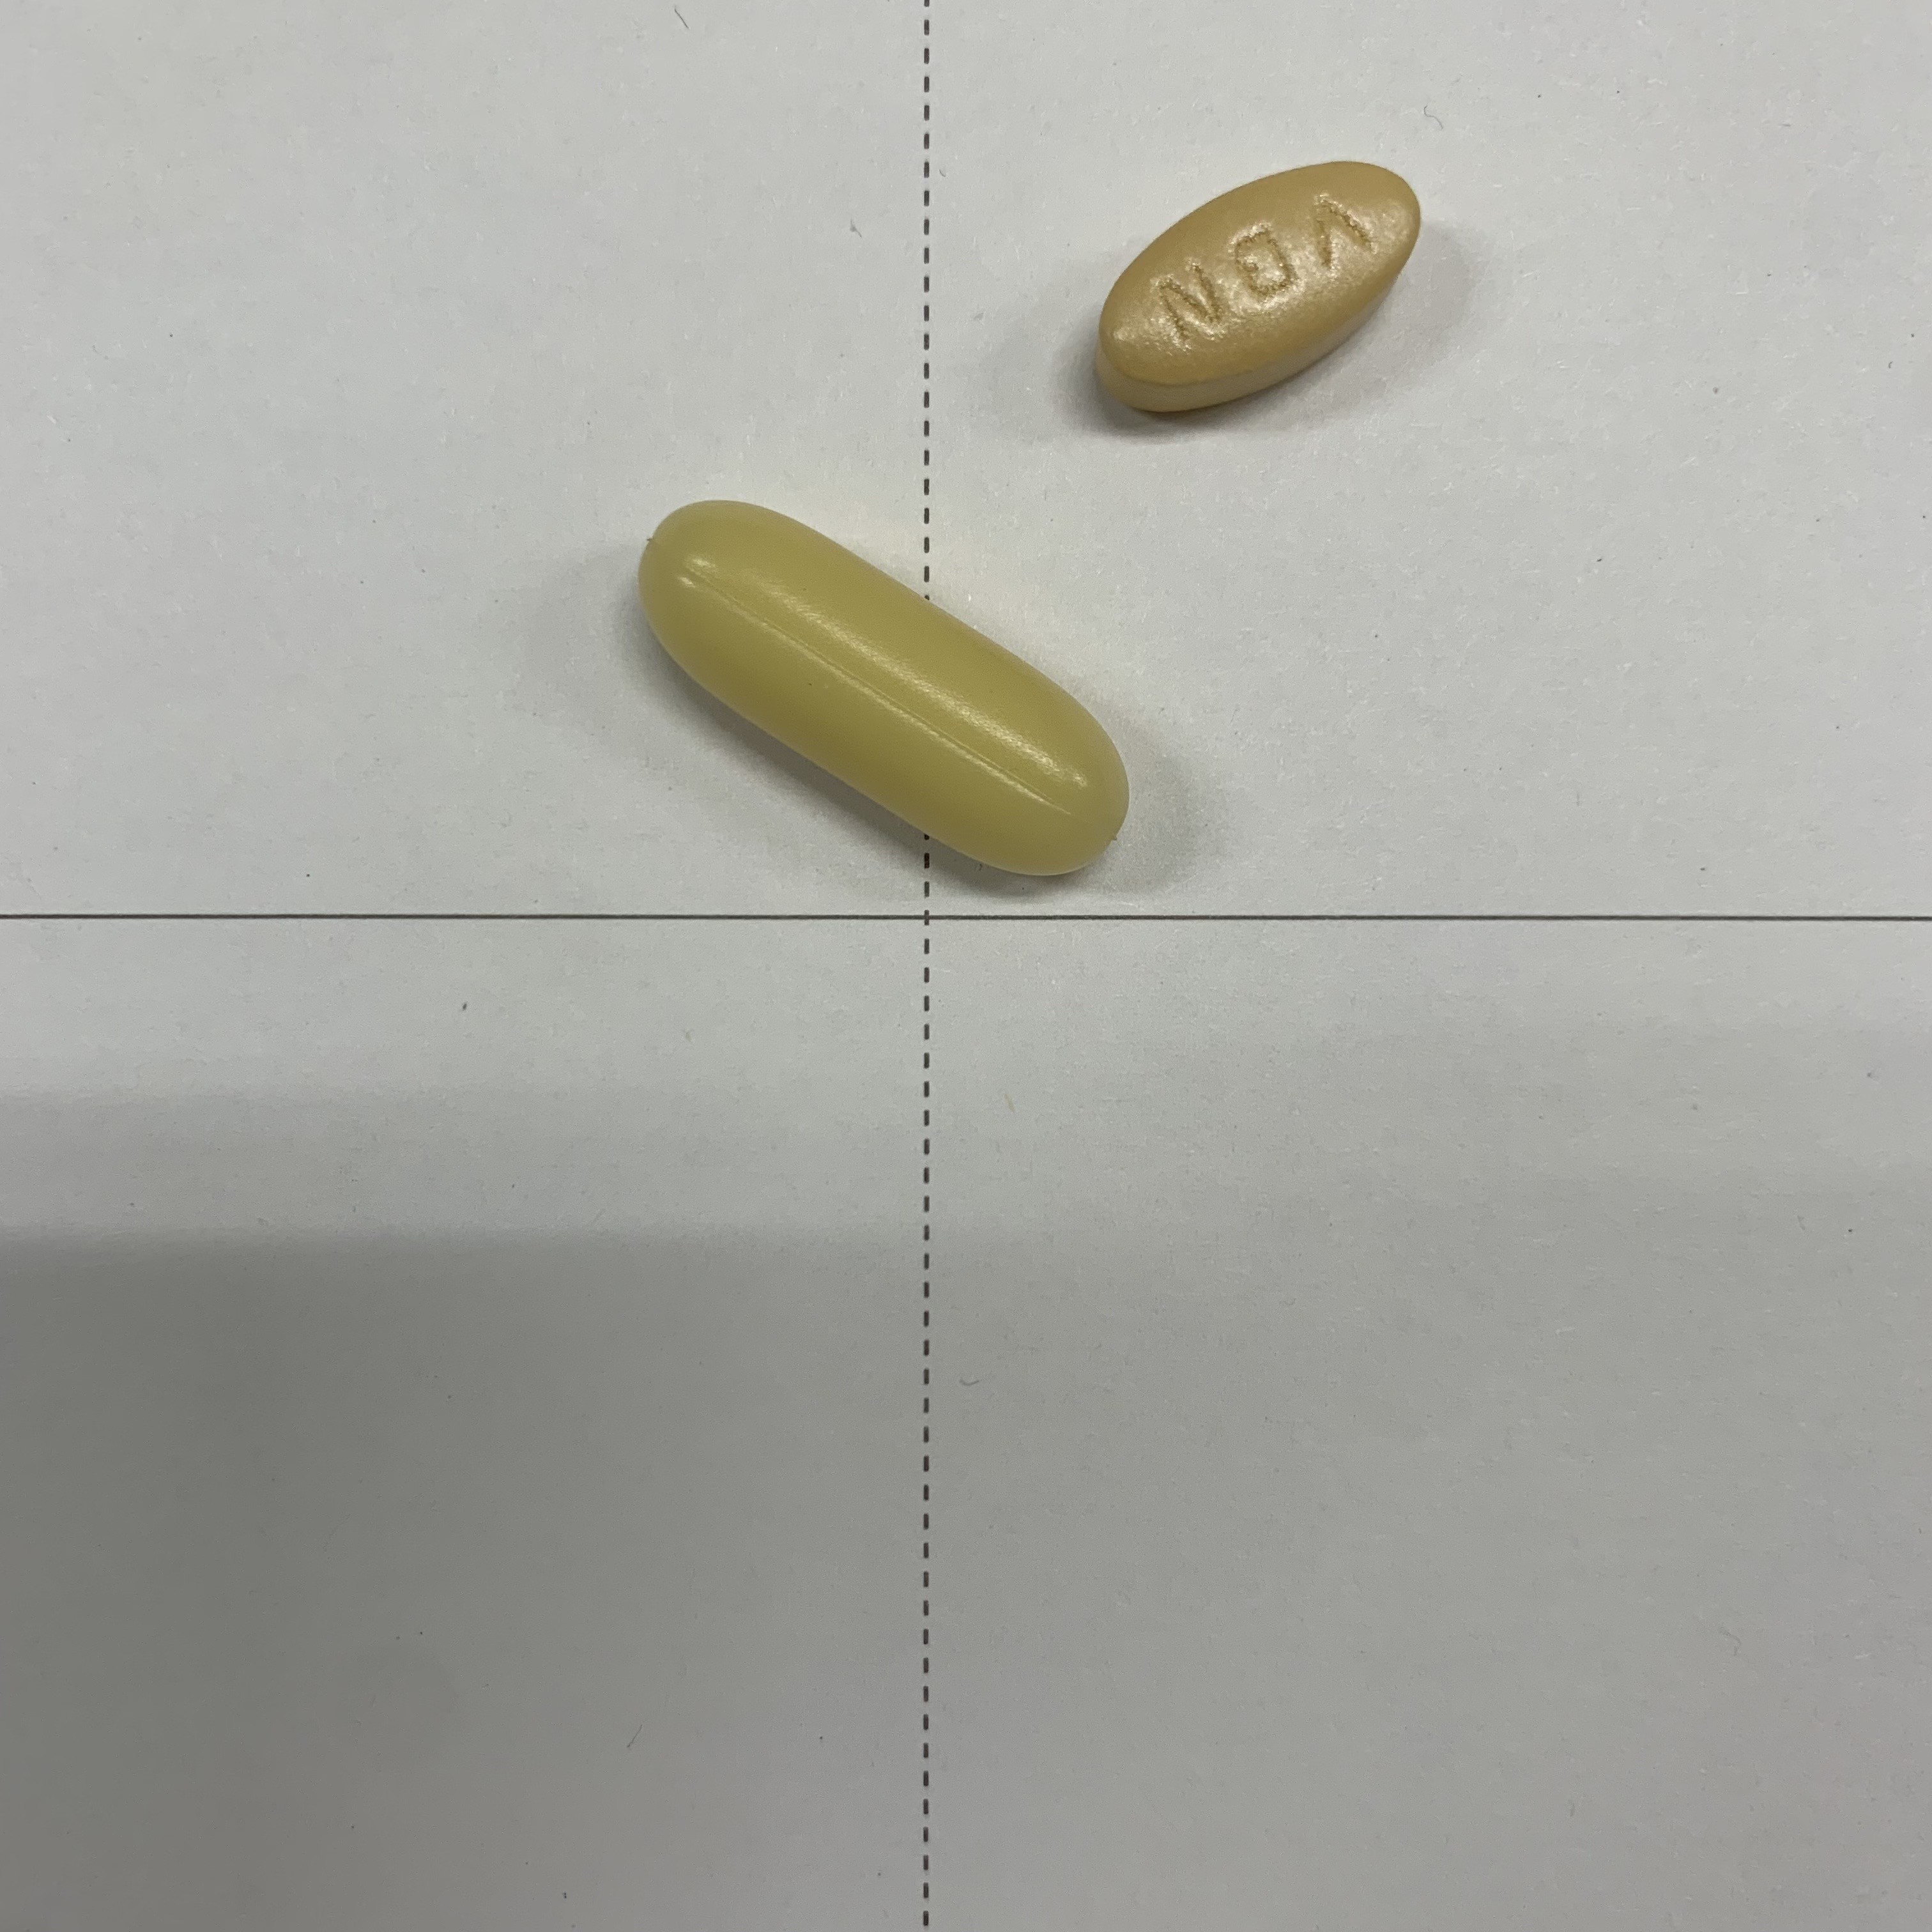oval_drug: (1081, 149, 1447, 423)
rec_drug: (591, 481, 1152, 922)
